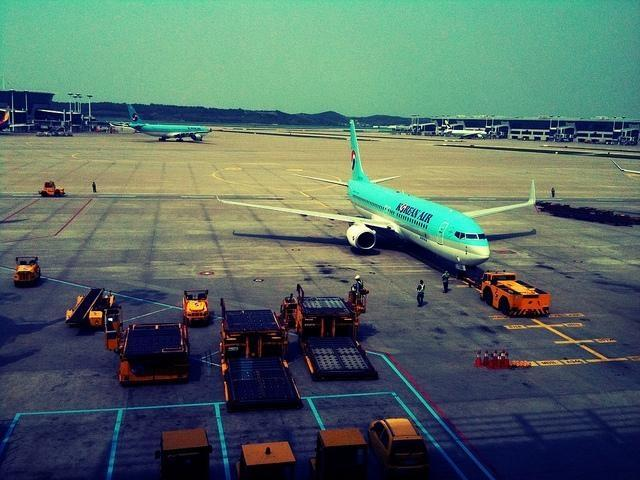car: (370, 418, 428, 477)
truck: (366, 417, 432, 476), (479, 269, 552, 319), (309, 428, 372, 479), (154, 429, 212, 480), (181, 288, 210, 324), (38, 180, 66, 198)
